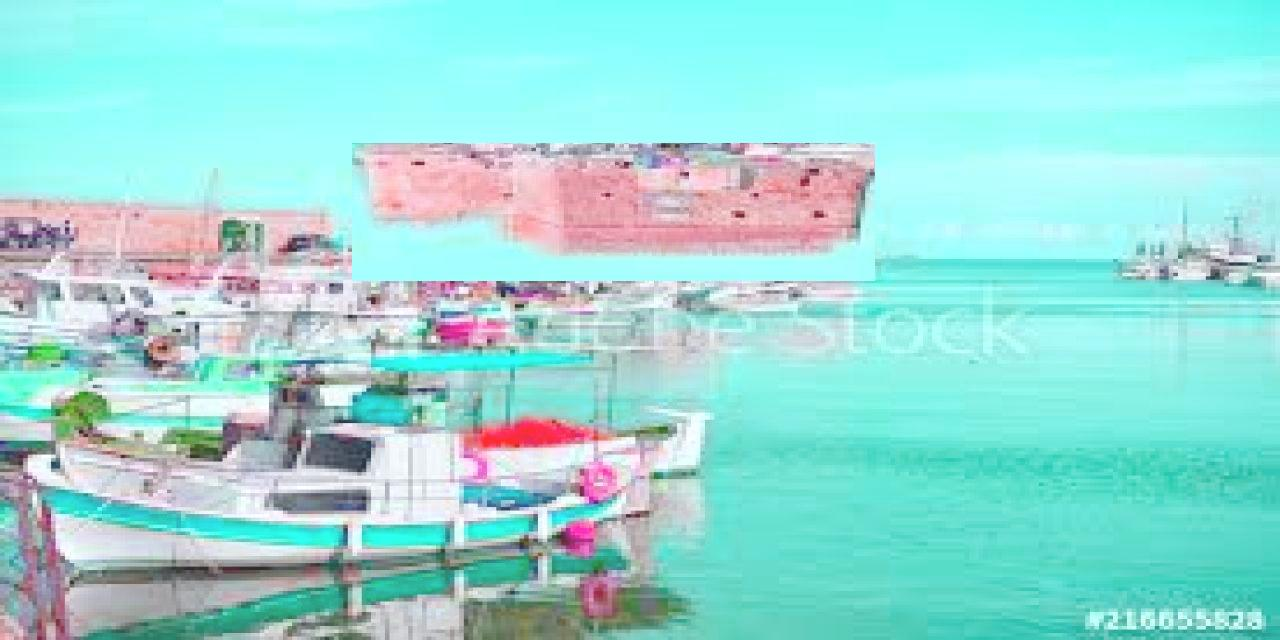Kules: (353, 144, 876, 282)
